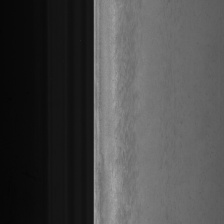silk_spot: (111, 60, 142, 201)
